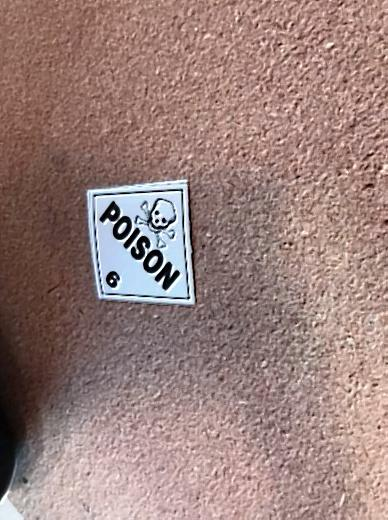poison: (87, 181, 197, 303)
